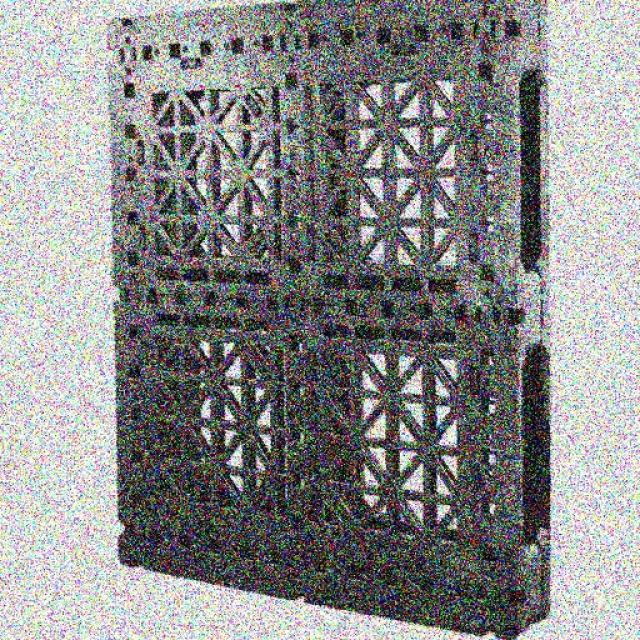non-igps: (84, 0, 566, 640)
